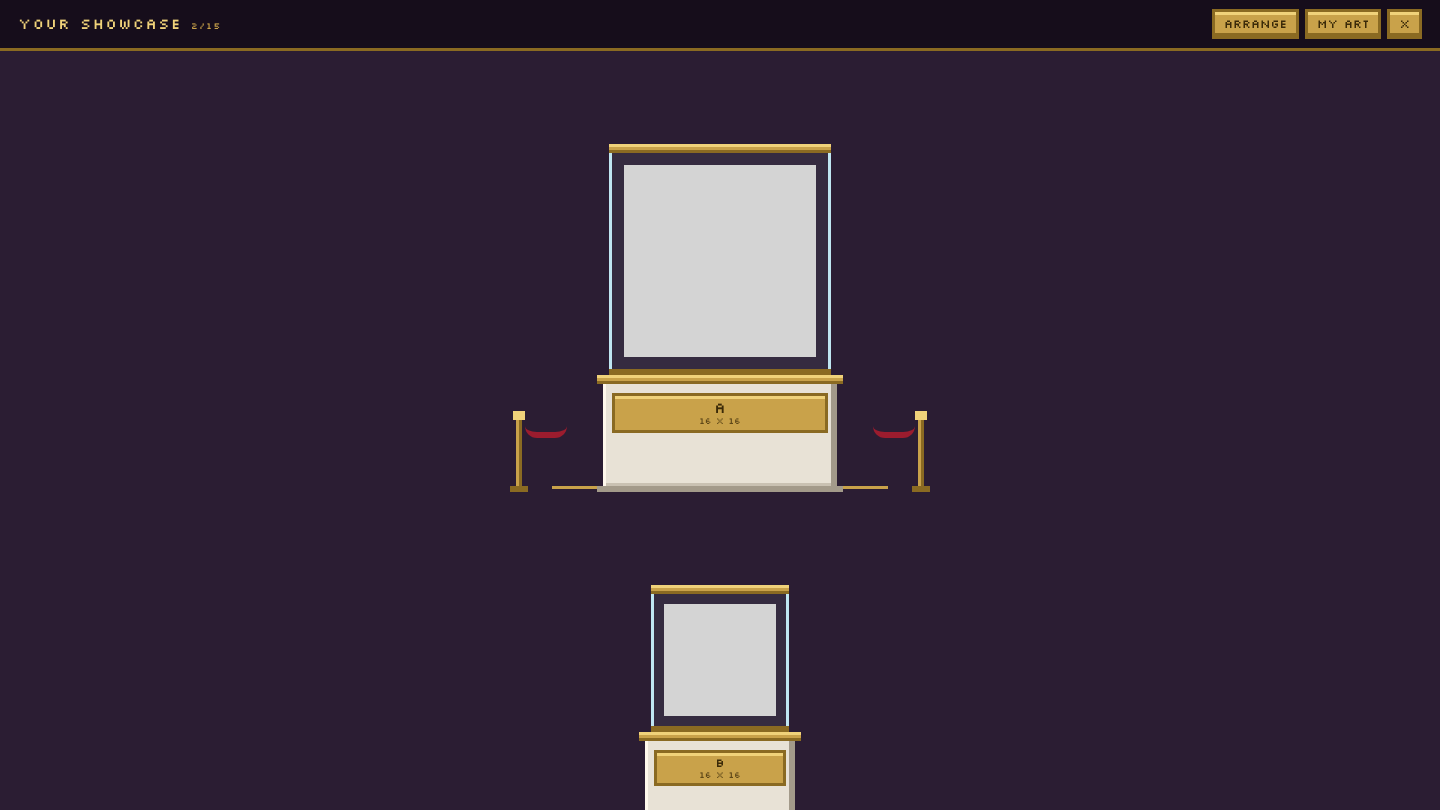
Test case: ShowcaseMuseum › Escape while arranging cancels the new order instead of closing
Step 1. Click the button "Arrange" → {"x": 1256, "y": 24}, box [1212,9,1299,39]
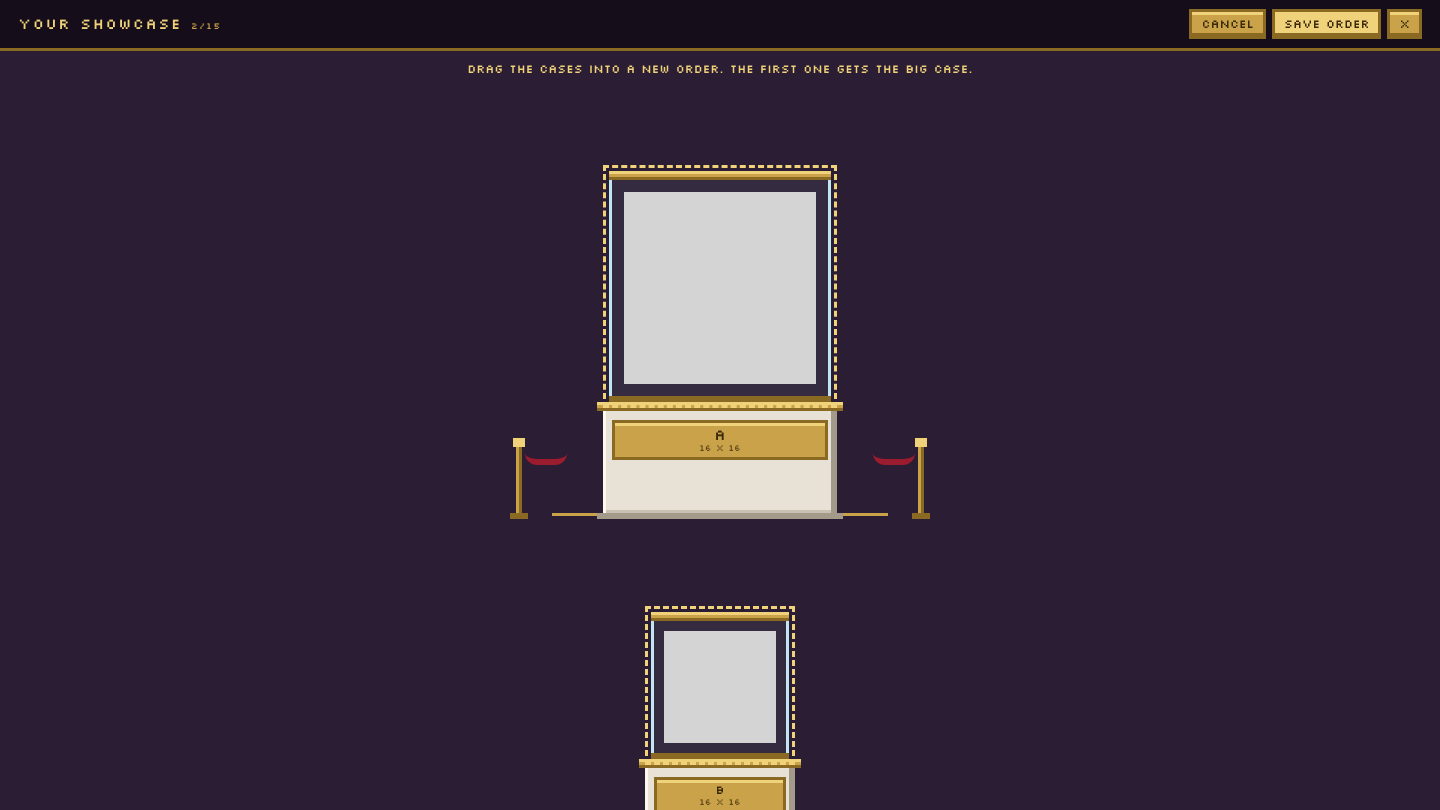
Step 2. Press Escape
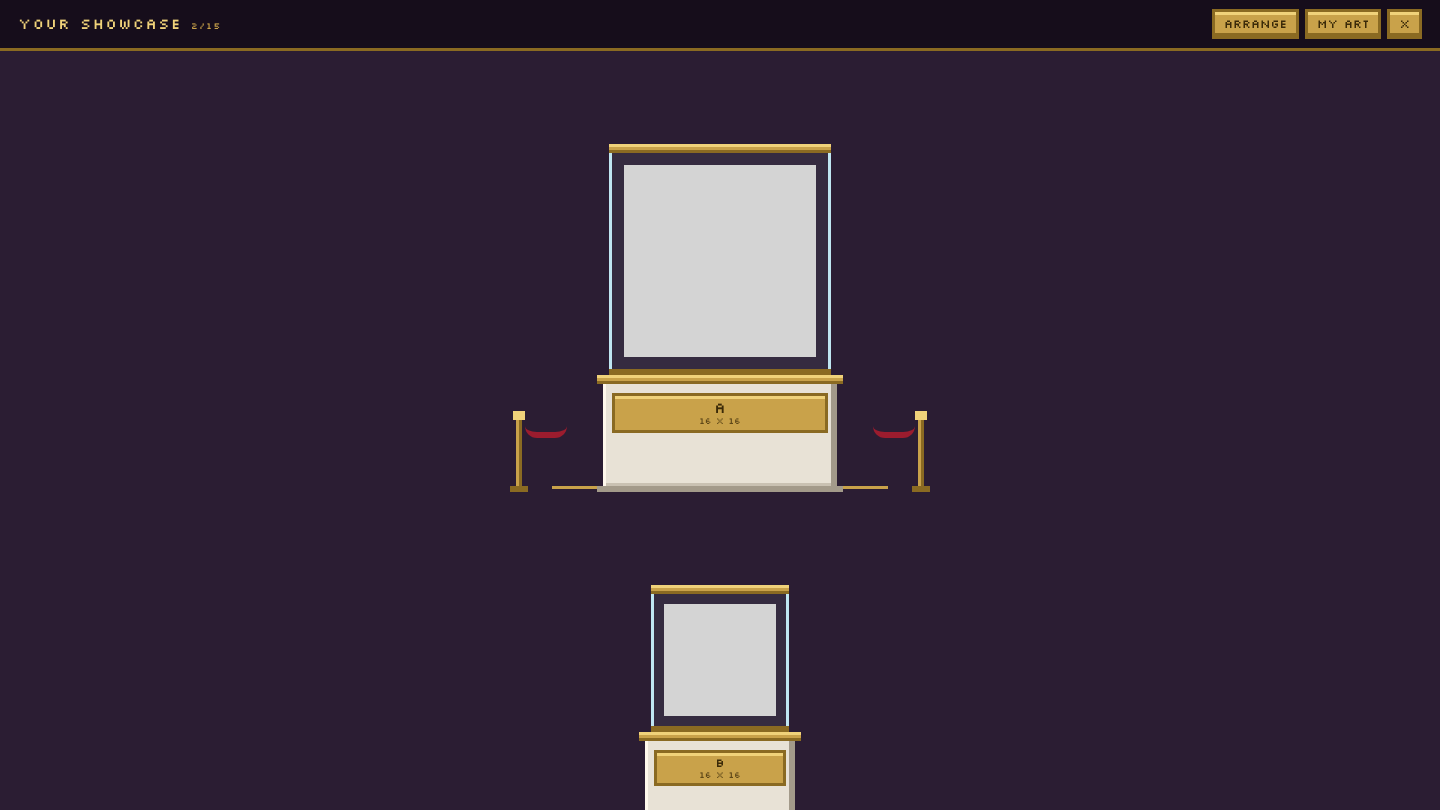
Expected: the button "Save order" is gone
